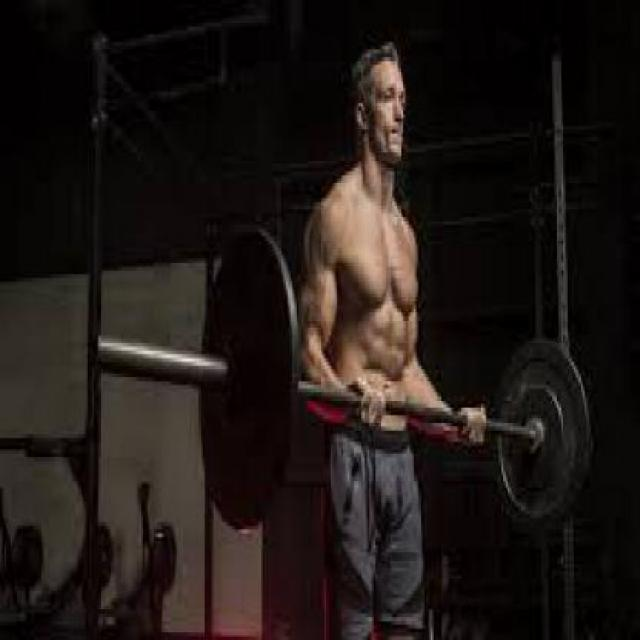Barbell: (85, 324, 113, 381)
